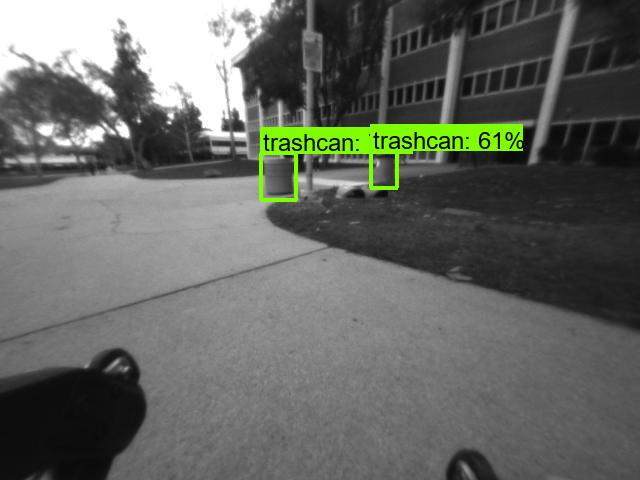trashcan: (263, 157, 296, 197), (372, 151, 399, 187)
